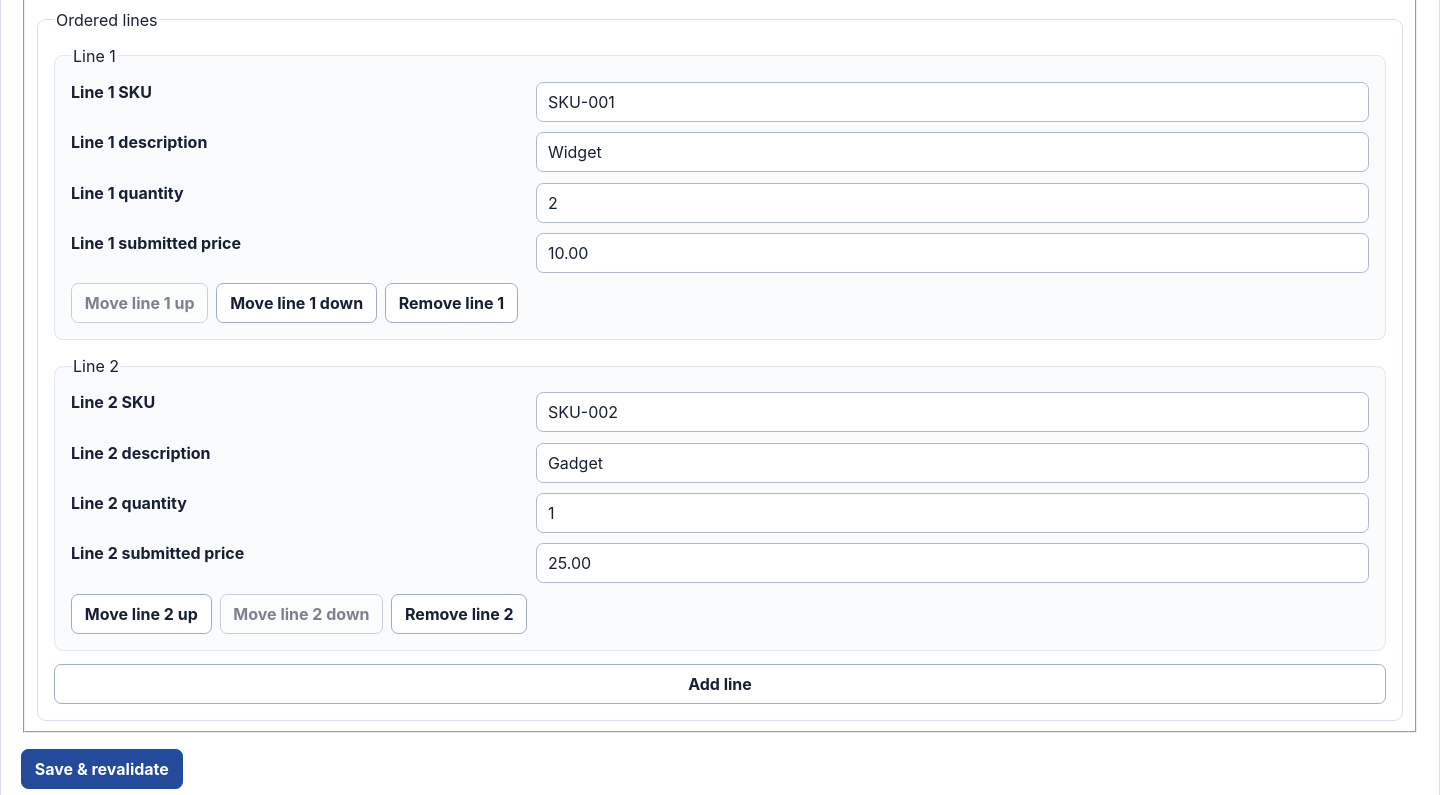
ReviewDraftForm › shows bounded no-op feedback and leaves the form usable
This screenshot has width=1440, height=795.
(page scrolled)
Step 1. Click the button "Save & revalidate" → [102, 769], box [21,749,183,789]
(page scrolled)
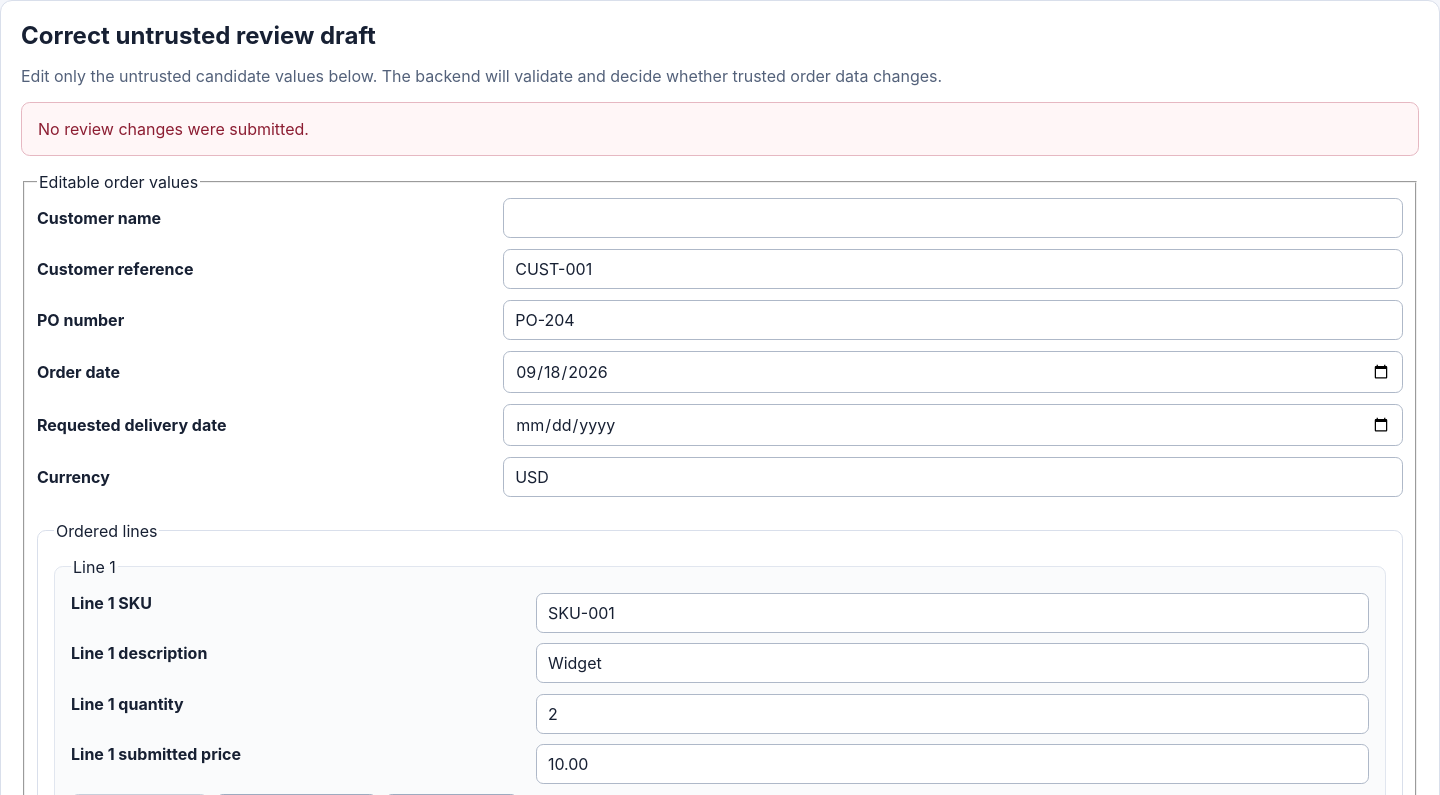
Expected: the field labelled "Customer reference" holds "CUST-001", [503,249,1403,289]
Expected: the message reads "No review changes were submitted.", [38,119,309,139]
